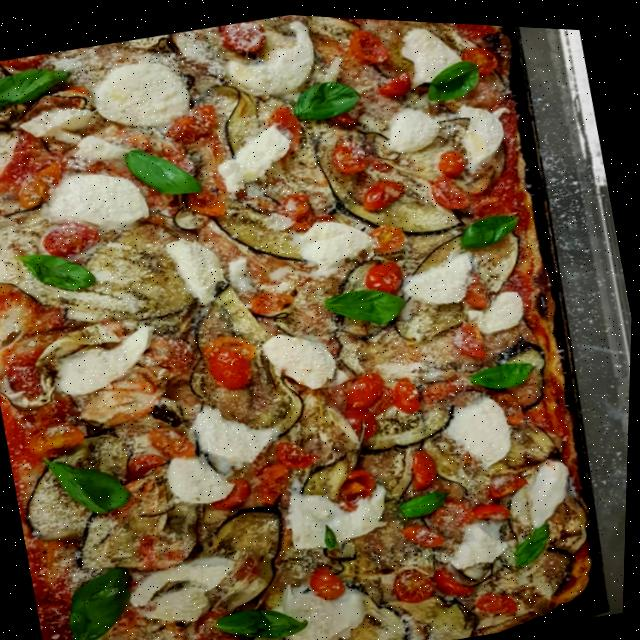basil: (38, 440, 141, 527), (56, 560, 150, 640), (119, 132, 209, 206), (318, 273, 413, 334), (20, 238, 103, 307), (210, 592, 318, 640), (282, 69, 367, 125), (0, 58, 75, 118), (450, 198, 529, 253), (464, 346, 544, 398), (416, 51, 490, 107), (504, 509, 565, 569), (389, 482, 455, 519), (316, 515, 347, 552)
pizza: (0, 0, 633, 640)
tomatoes: (249, 432, 327, 506), (336, 362, 401, 442), (199, 321, 266, 396), (391, 550, 476, 607), (166, 91, 231, 164), (421, 138, 482, 210), (271, 176, 334, 233), (10, 154, 74, 208), (24, 411, 89, 460), (328, 129, 386, 178), (402, 439, 453, 491), (213, 13, 273, 56), (335, 460, 384, 510), (386, 367, 435, 417), (306, 549, 353, 600), (39, 220, 98, 260), (267, 99, 309, 155), (474, 576, 527, 619), (147, 419, 199, 461), (451, 312, 492, 365), (360, 253, 411, 295), (348, 17, 392, 65), (430, 491, 479, 533), (357, 171, 411, 209), (208, 473, 260, 512), (124, 437, 172, 479), (195, 600, 244, 640), (396, 514, 451, 549), (482, 457, 529, 497), (368, 214, 415, 253), (245, 281, 298, 315), (470, 488, 519, 523), (182, 182, 225, 221), (370, 62, 416, 98), (457, 264, 495, 307), (460, 32, 498, 74), (0, 49, 55, 75), (494, 381, 528, 423), (326, 97, 369, 130)
